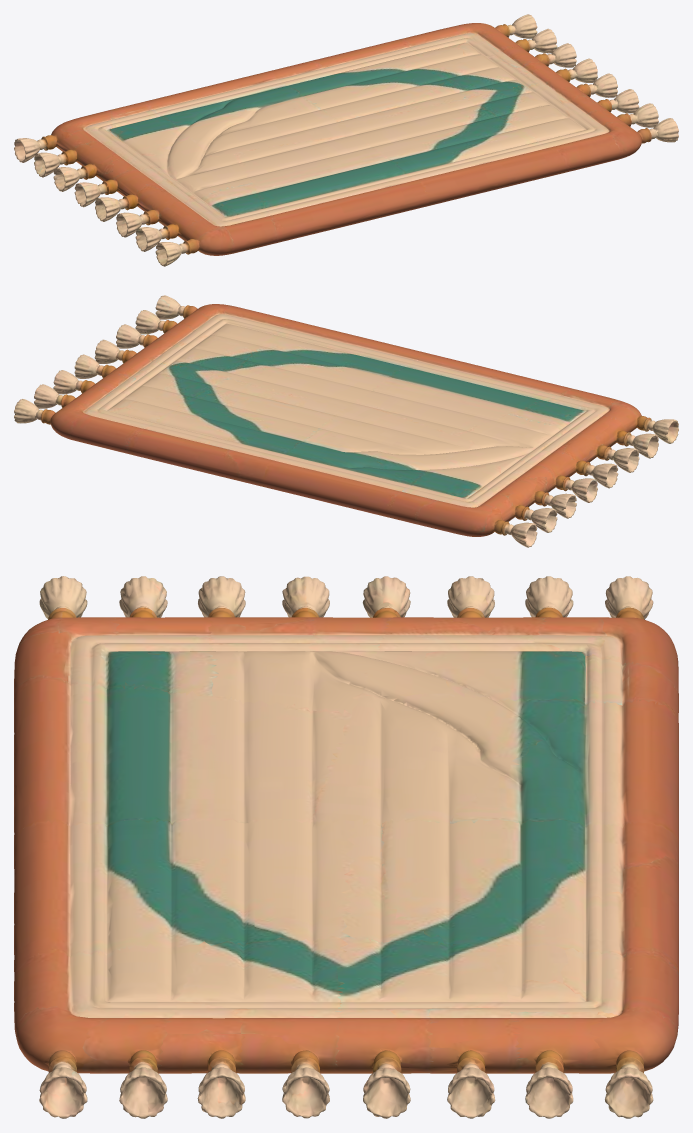
Rendered from prayer-rug-variant-10-minimal-three-tone.glb.
3 views of the same model, one above another, from view 1: azimuth 30°, elevation 25°; view 2: azimuth 150°, elevation 25°; view 3: azimuth 270°, elevation 25° (orthographic). The views are drawn at different scales.
Parts seen in each view (by area): view 1: mesh_node; view 2: mesh_node; view 3: mesh_node.
Part boxes in pixels (<box>): mesh_node: <box>14,14,678,266</box>; mesh_node: <box>14,295,678,547</box>; mesh_node: <box>14,576,678,1118</box>.
Size of the model in its own units: 1.9 by 0.0881 by 1.07.
Materials: 1 (1 with a texture image).
